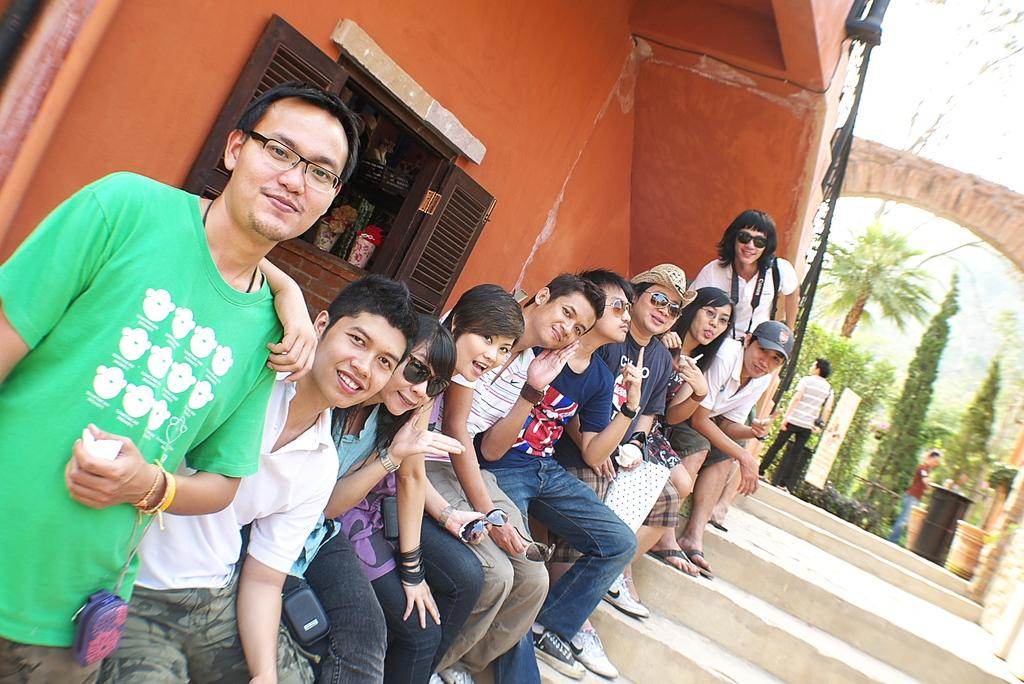Sem Máscara: (231, 95, 344, 241), (311, 306, 404, 408), (384, 334, 444, 418), (449, 309, 514, 383), (533, 287, 594, 352), (630, 278, 677, 333), (597, 281, 632, 342), (746, 336, 785, 379), (690, 302, 730, 343), (733, 224, 763, 262), (806, 355, 818, 371), (926, 455, 934, 469)
